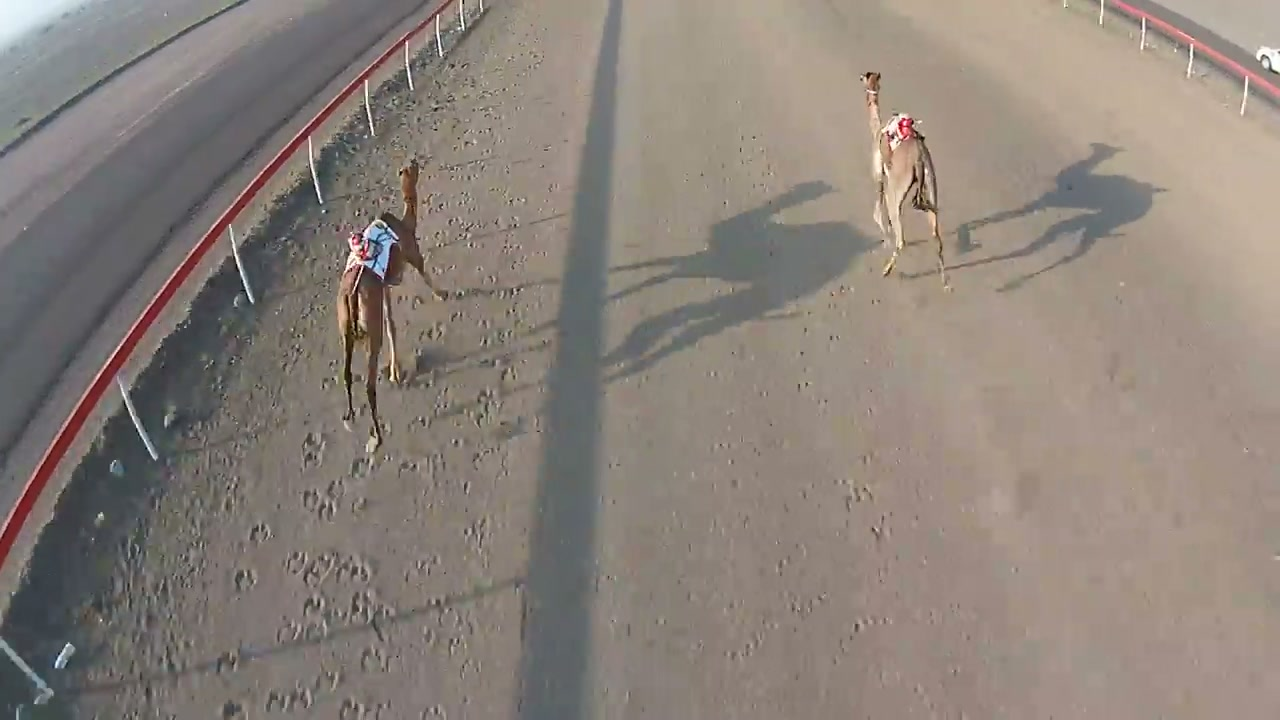animal_foot_print: (206, 377, 488, 719)
